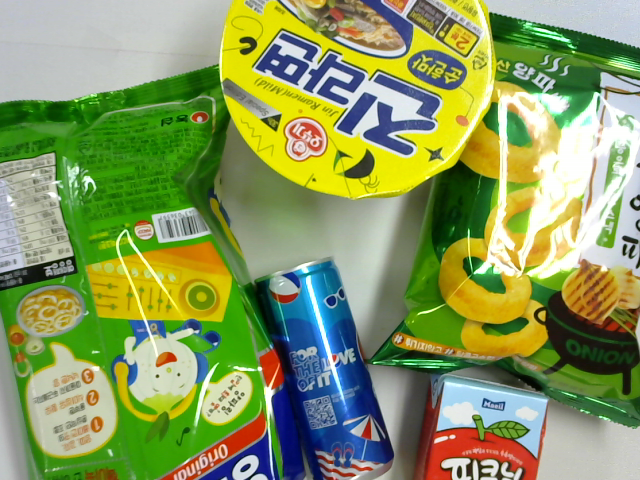Grilled_Onions: (364, 13, 640, 429)
Jinlamyeon_Mild_Taste_Large_Cup: (219, 1, 497, 200)
Oninon_Ring: (1, 63, 310, 480)
Pepsi_Cola_Can_250ml: (250, 255, 393, 480)
Picnic_Apple: (416, 374, 550, 480)
